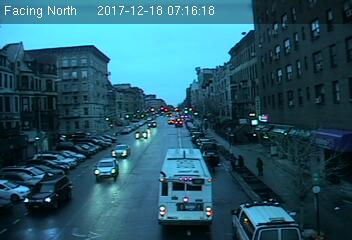bus: (158, 147, 214, 226)
car: (25, 176, 72, 207), (95, 159, 119, 180), (112, 145, 130, 157), (133, 128, 148, 140)
pedestrian: (253, 157, 264, 180), (228, 153, 236, 173), (236, 155, 244, 172)
police: (231, 198, 302, 240)
